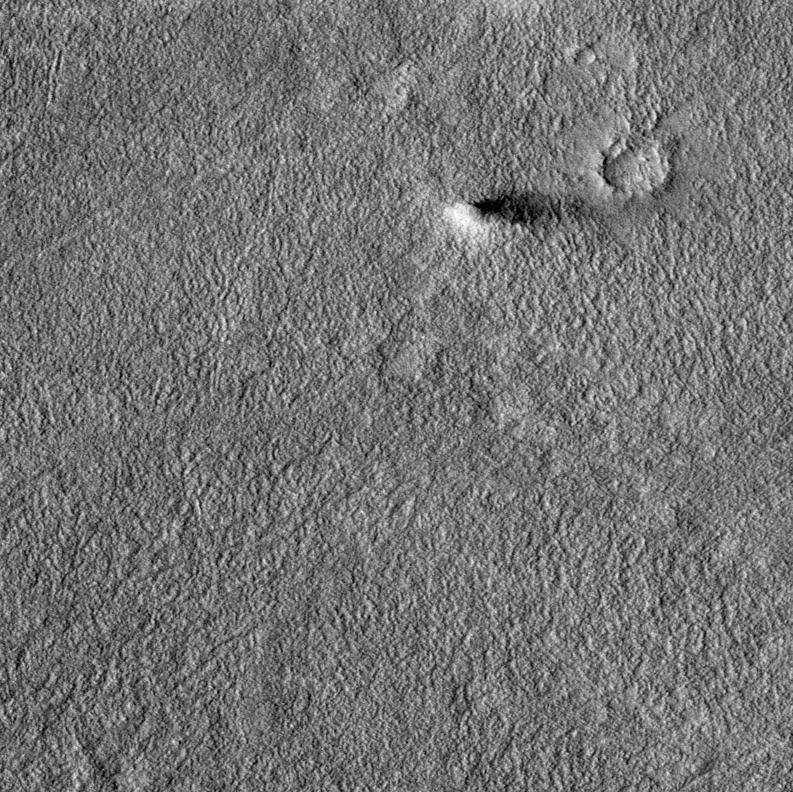dust_devil: (441, 190, 590, 241)
